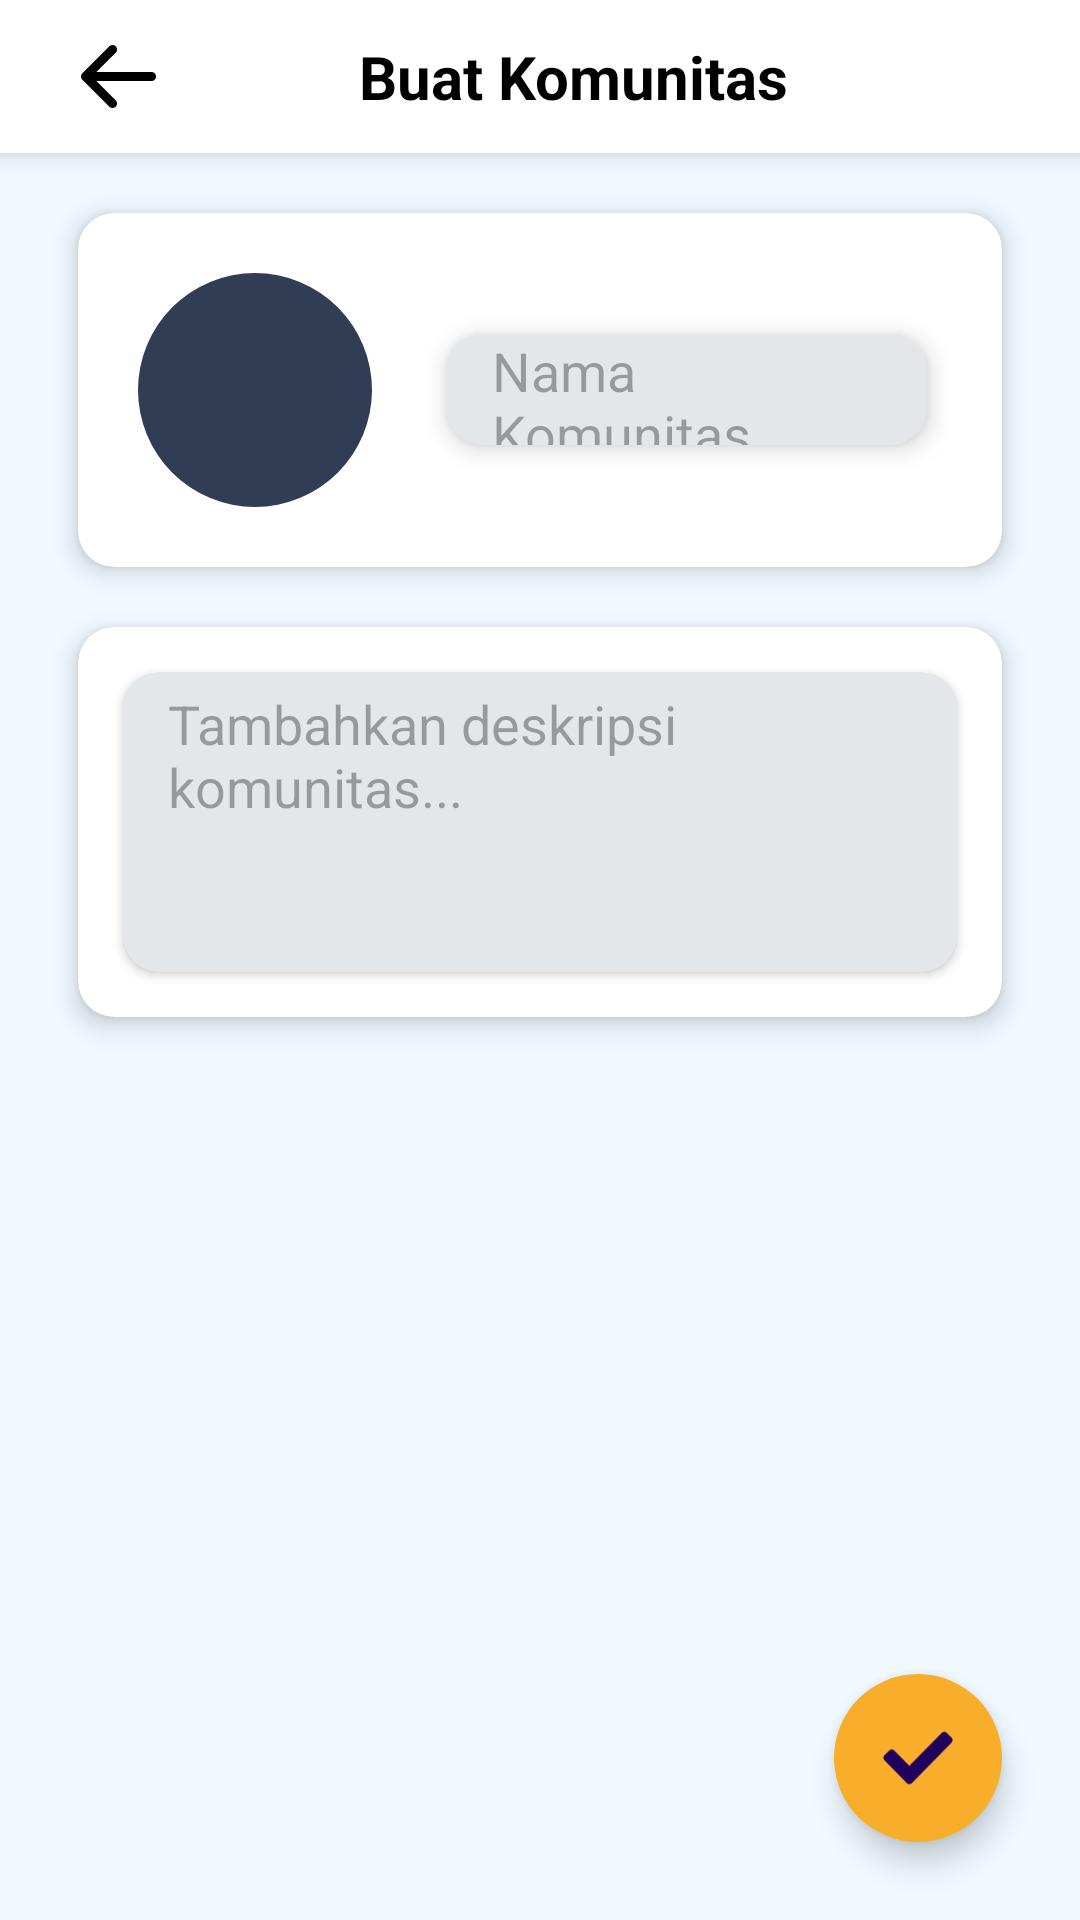

Locate icon controls on the screen. Image size 1080*1920, boxes as rect(x1, y1, x2, y2).
back: rect(81, 45, 156, 108)
check: rect(834, 1674, 1002, 1842)
